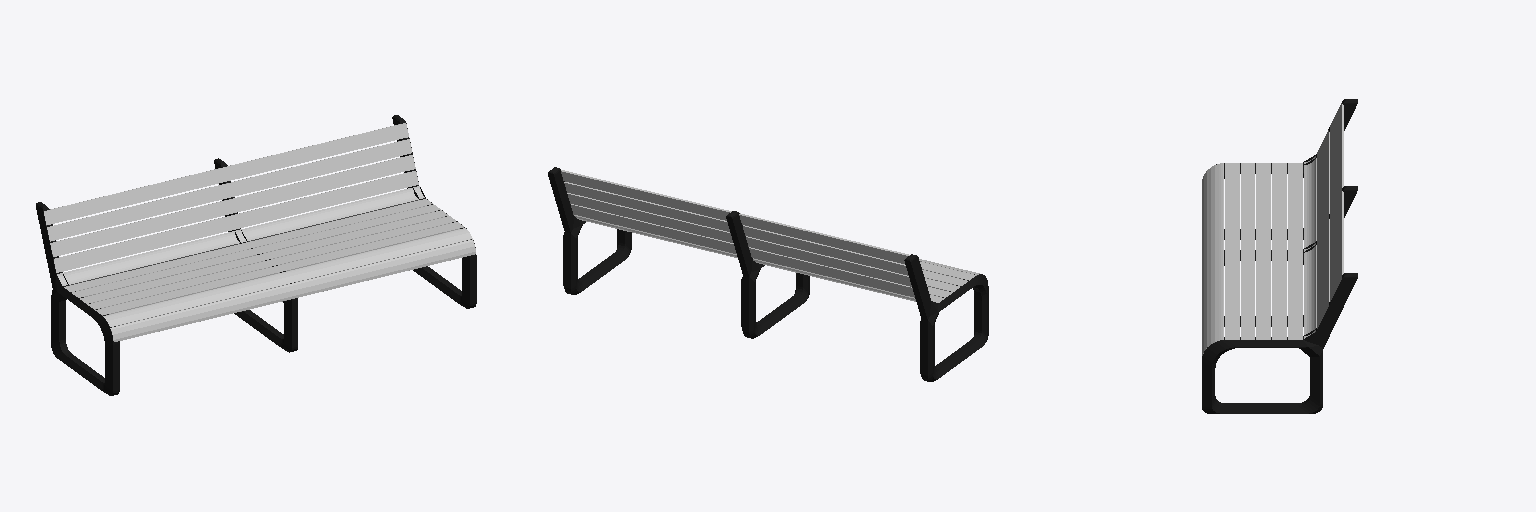
Rendered from Скамейканов.obj.
The picture shows the model from 3 angles: view 1: azimuth 30°, elevation 25°; view 2: azimuth 150°, elevation 25°; view 3: azimuth 270°, elevation 25°; orthographic projection.
Visible parts, largest first — view 1: Куб, Cube; view 2: Куб, Cube; view 3: Куб, Cube.
Part boxes in pixels (x1,y1,x2,y2): Куб: (44,123,475,341); Cube: (36,115,476,395); Куб: (561,170,979,302); Cube: (548,167,988,381); Куб: (1202,103,1343,355); Cube: (1202,99,1357,413).
Bounding box in the file's own units: 2.91 × 1.05 × 1.06.